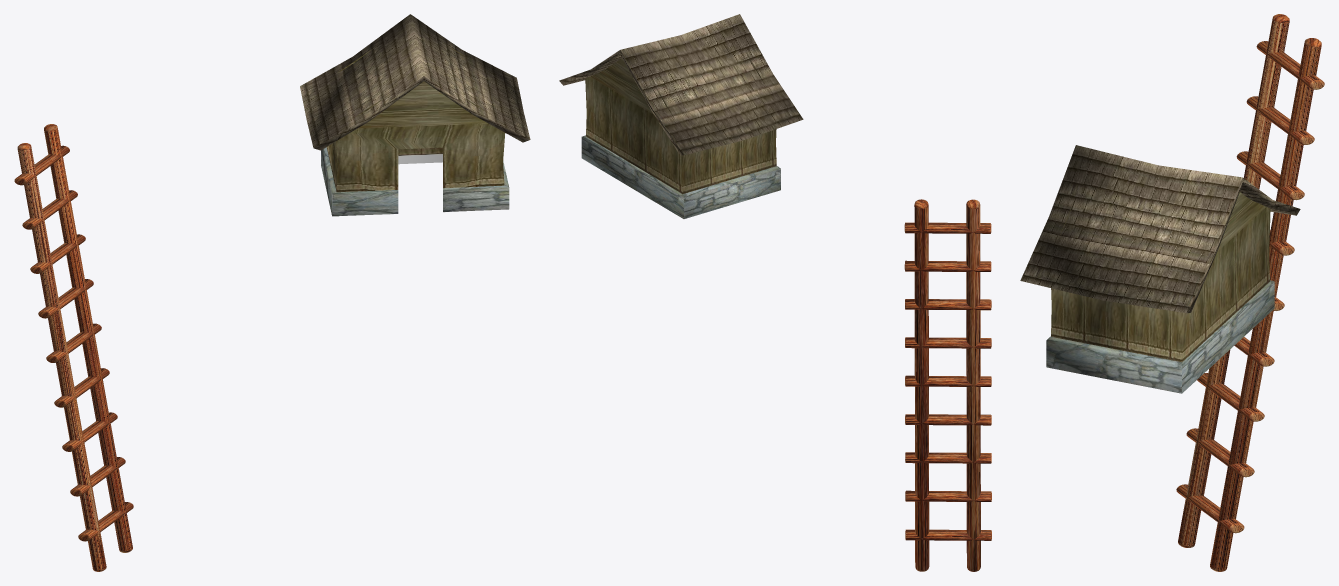
File: lom_model4.fbx
3 renders of one model, left to right at view 1: azimuth 30°, elevation 25°; view 2: azimuth 150°, elevation 25°; view 3: azimuth 270°, elevation 25°, orthographic. The views are drawn at different scales.
Parts seen in each view (by area): view 1: chatka4, zebrik4; view 2: chatka4, zebrik4; view 3: chatka4, zebrik4.
Part boxes in pixels (x1,y1,x2,y2): chatka4: [300, 14, 530, 216]; zebrik4: [14, 124, 133, 571]; chatka4: [559, 14, 803, 218]; zebrik4: [904, 199, 991, 571]; chatka4: [1020, 145, 1300, 393]; zebrik4: [1176, 14, 1324, 571].
Size of the model in its own units: 4.53 by 4.24 by 2.04.
Materials: 2 (2 with a texture image).
